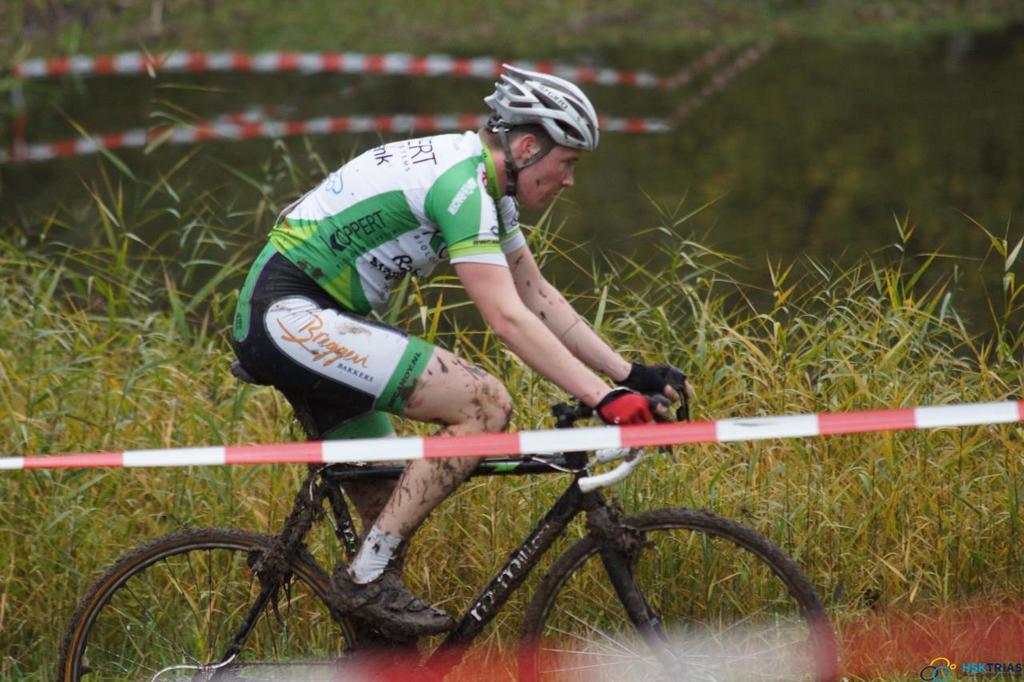Bike_away: (61, 350, 846, 671)
